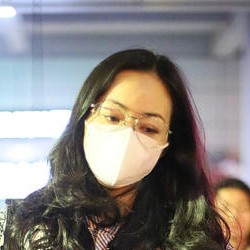mask: (79, 108, 161, 190)
